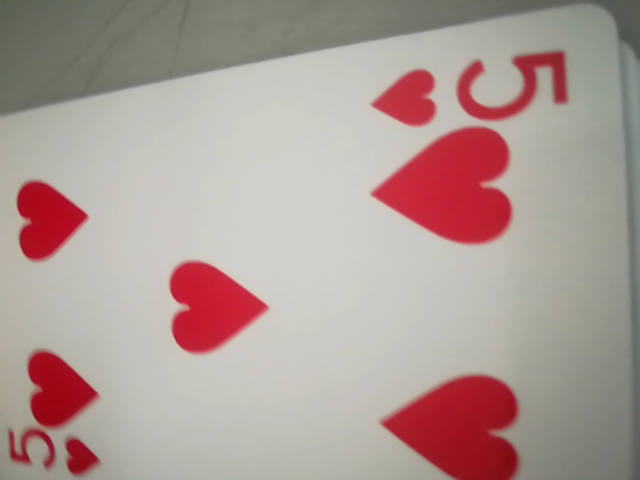hx 5: (368, 41, 576, 134)
